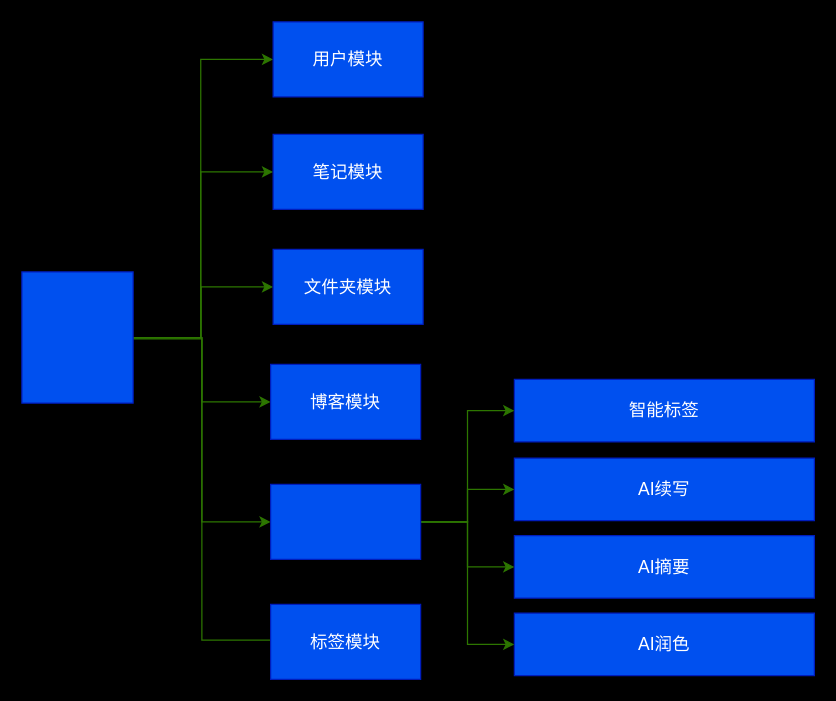
This 836x701 diagram has some shape labels left out. The shapes that lost their labels are listed below. From the top down, each one's centre as x and y in pixels, then its label:
At (x=77, y=337): "笔记应用".
At (x=345, y=521): "AI辅助".
